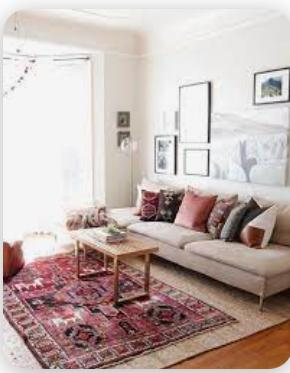carpet: (4, 255, 235, 368)
